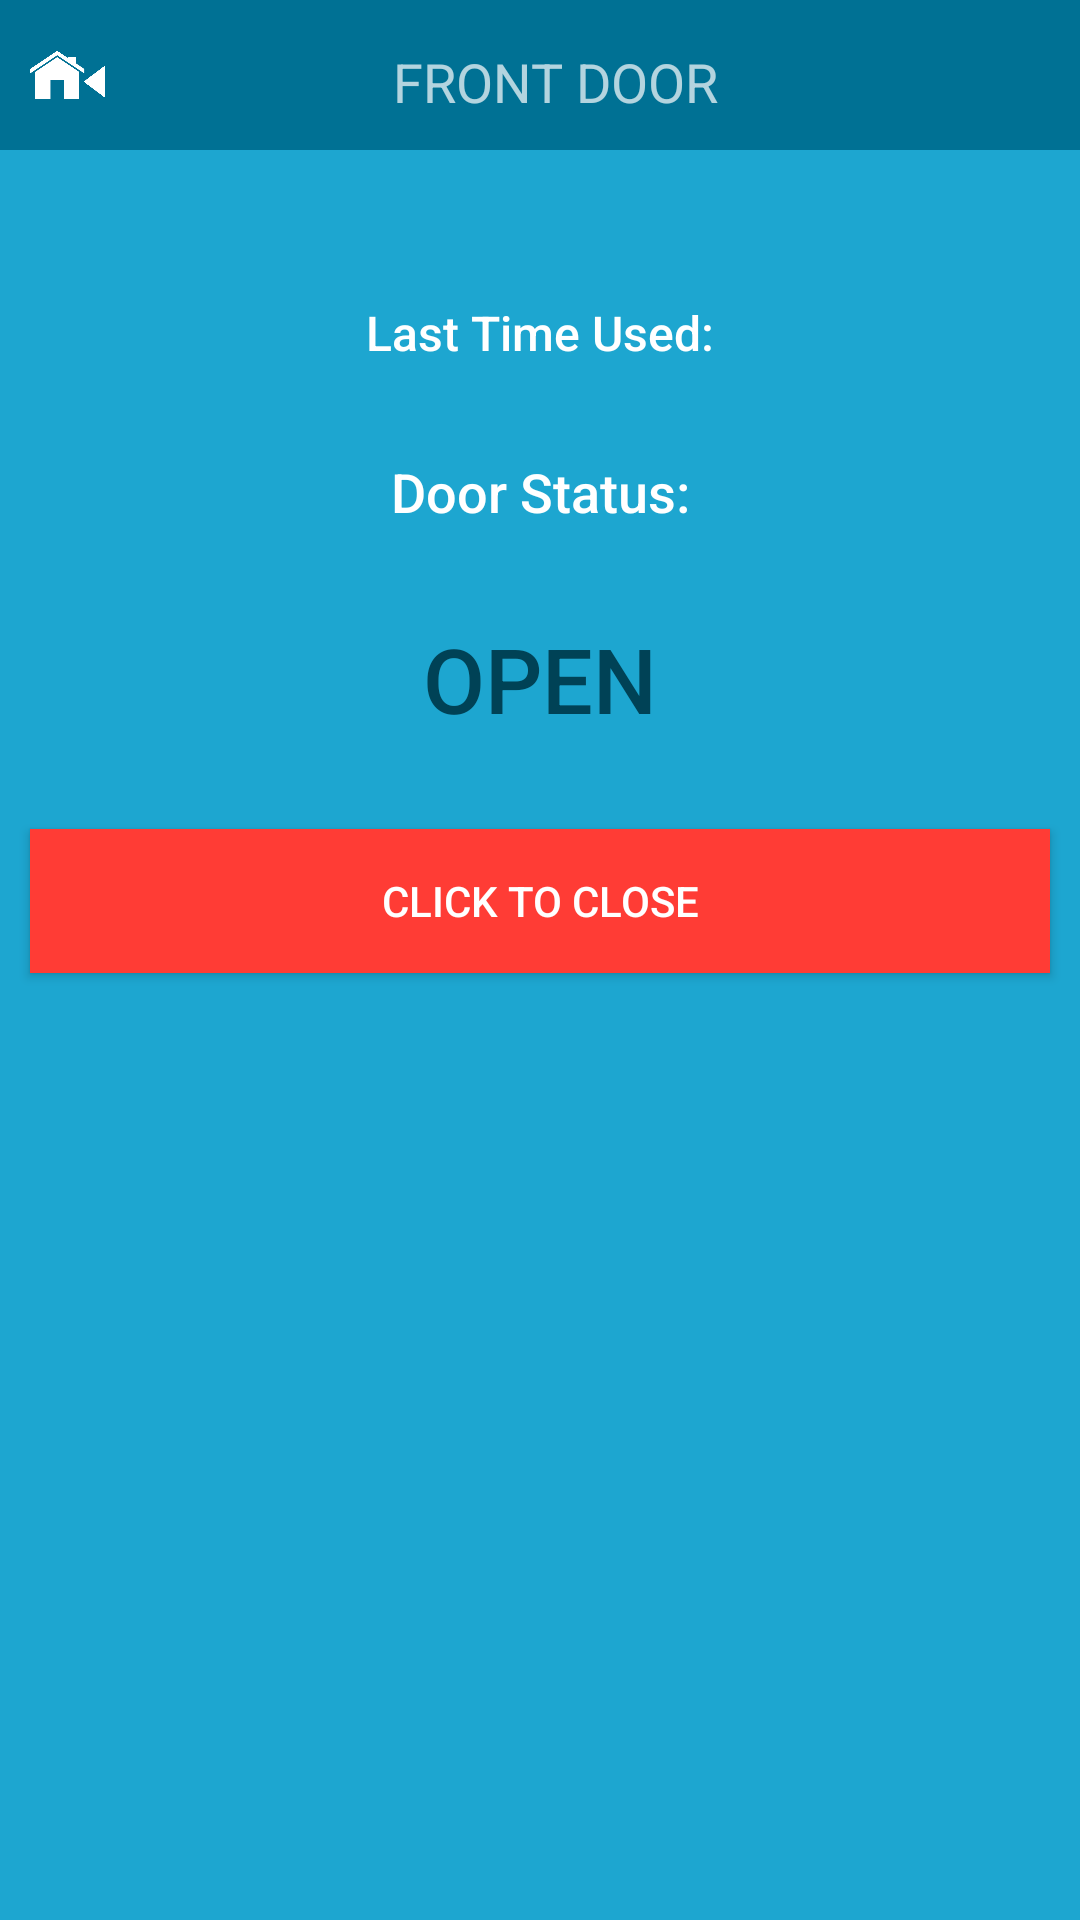

Locate icon controls on the screen. Image size 1080x1920, boxes as (x1, y1, x2, y2).
backicon: (30, 51, 105, 99)
